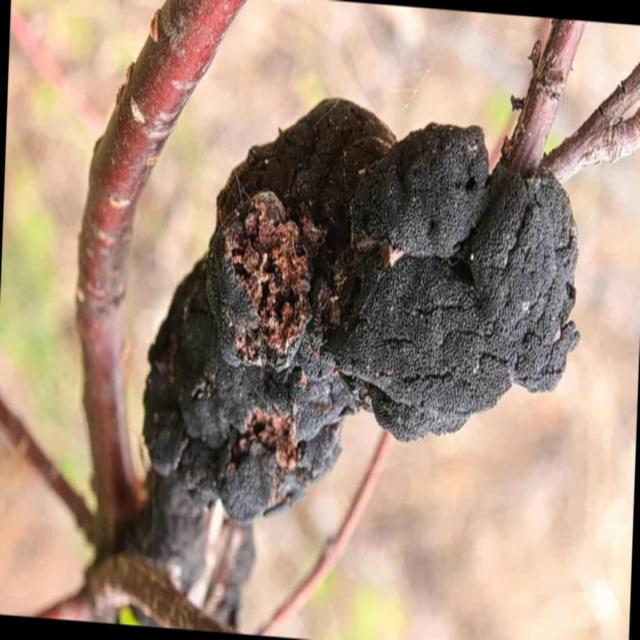Black_knot: (141, 94, 581, 524), (213, 187, 321, 370)
